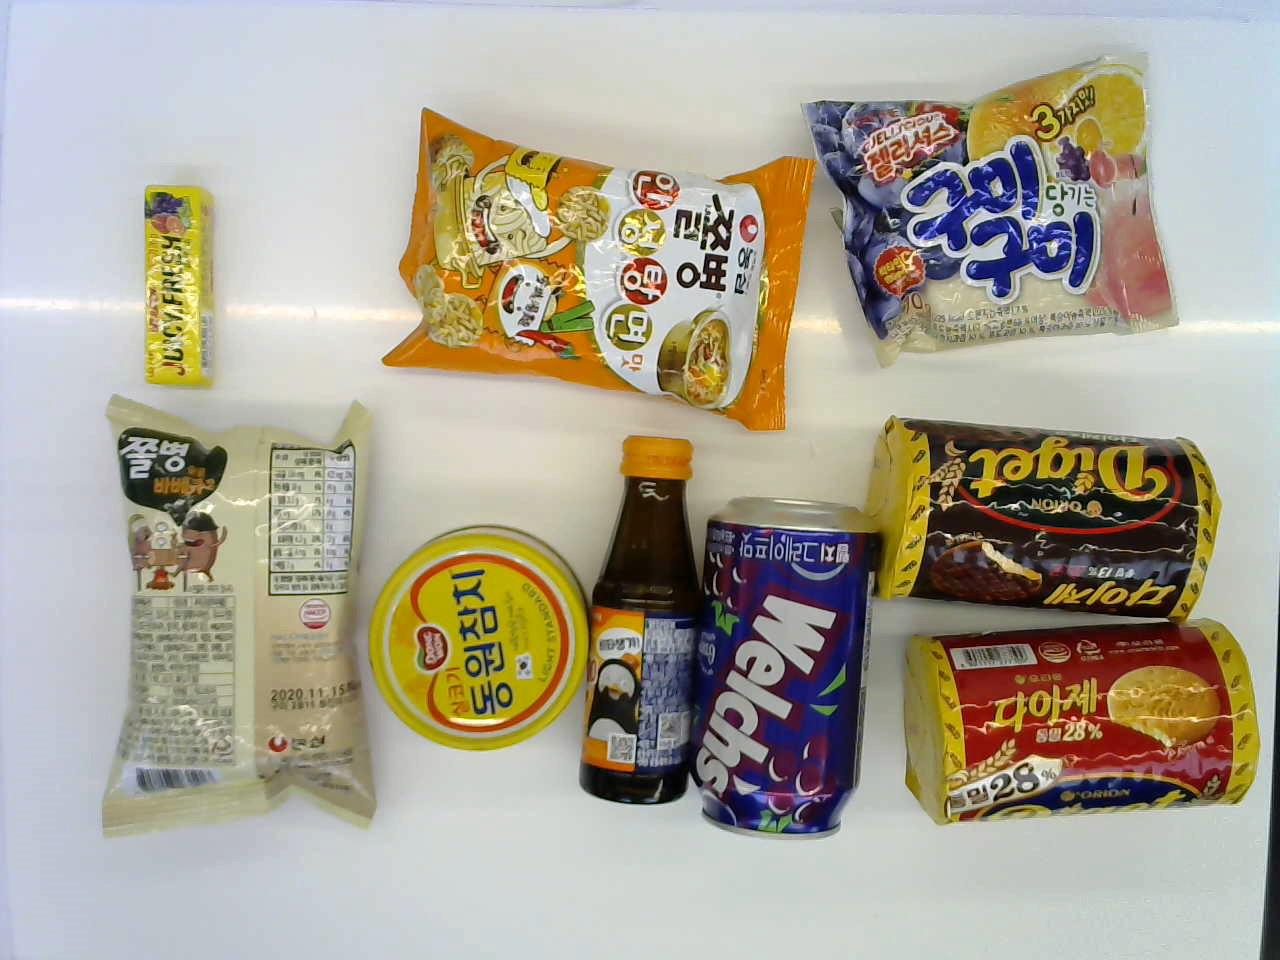diget_choco: (866, 411, 1225, 621)
diget_ori: (889, 613, 1245, 841)
gumi_gumi: (822, 53, 1180, 350)
jjolbyung_noodle: (387, 97, 802, 423)
jjolbyung_ori: (81, 397, 366, 846)
juicyfresh: (134, 178, 214, 399)
tuna: (375, 519, 582, 763)
vita500: (581, 422, 711, 794)
welchs: (697, 498, 877, 848)
